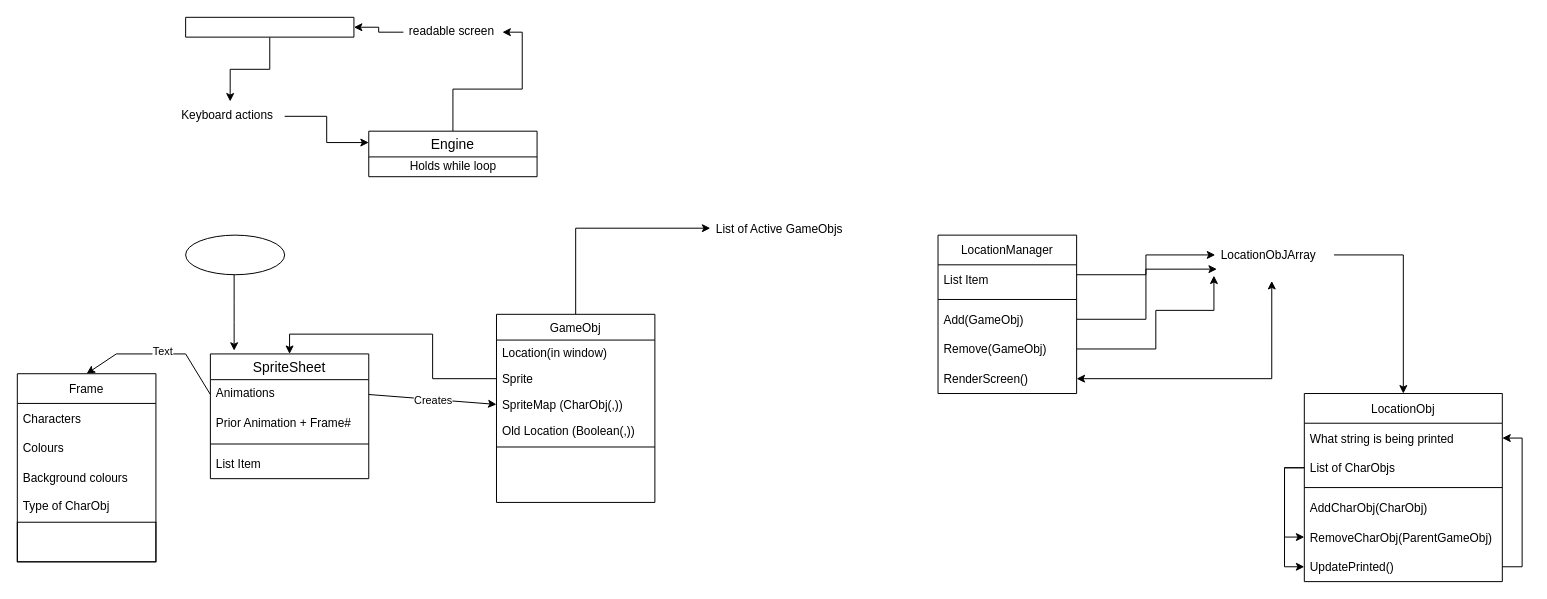
The diagram is 1547 pixels wide and 599 high, and some of its shapes have lost their labels. Here are the shapes that lost their labels. From the top down, the centre of each, then its label:
At (x=269, y=26): "User".
At (x=235, y=254): "SpriteSheet.json".
At (x=86, y=541): "Render() Returns CharObj(,)".
